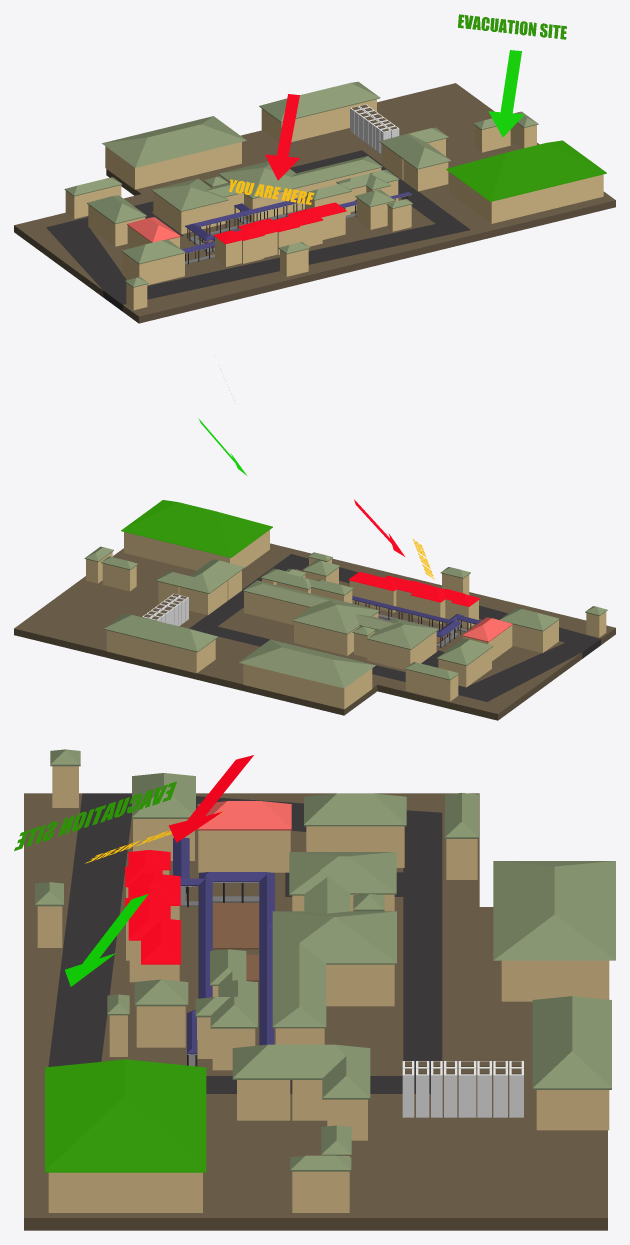
The model's file is BASDBUILDING.glb.
3 views of the same model, one above another, from view 1: azimuth 30°, elevation 25°; view 2: azimuth 150°, elevation 25°; view 3: azimuth 270°, elevation 25° (orthographic). The views are drawn at different scales.
Parts seen in each view (by area): view 1: Toposolid Grassland - 1200mm [352516], Toposolid Grassland - 1200mm [354195], Basic Roof Generic - 125mm [387914], Basic Roof Generic - 125mm [384035], Toposolid Grassland - 1200mm [354195].001, Basic Roof Generic - 125mm [378573], Basic Wall Generic - 200mm [355787], Basic Wall Generic - 200mm [355672], Basic Roof Generic - 125mm [385592], Basic Roof Generic - 125mm [385698], Basic Roof Generic - 125mm [387351], Basic Wall Generic - 200mm [355773] (+29 smaller); view 2: Toposolid Grassland - 1200mm [352516], Toposolid Grassland - 1200mm [354195], Basic Roof Generic - 125mm [387914], Basic Roof Generic - 125mm [384035], Basic Roof Generic - 125mm [378573], Basic Wall Generic - 200mm [355757], Basic Roof Generic - 125mm [385592], Basic Wall Generic - 200mm [355771], Basic Wall Generic - 200mm [355789], Basic Roof Generic - 125mm [385698], Basic Roof Generic - 125mm [387351], Basic Wall Generic - 200mm [357221] (+18 smaller); view 3: Toposolid Grassland - 1200mm [352516], Toposolid Grassland - 1200mm [354195], Basic Roof Generic - 125mm [387914], Basic Roof Generic - 125mm [384035], Basic Roof Generic - 125mm [378573], Toposolid Grassland - 1200mm [354195].001, Basic Roof Generic - 125mm [385592], Basic Wall Generic - 200mm [355788], Basic Roof Generic - 125mm [389243], Basic Roof Generic - 125mm [387351], Basic Roof Generic - 125mm [385698], Basic Wall Generic - 200mm [355719] (+31 smaller).
Boxes of the visible parts, x1=… form: Toposolid Grassland - 1200mm [352516]: x1=14, y1=83, x2=615, y2=323; Toposolid Grassland - 1200mm [354195]: x1=46, y1=150, x2=470, y2=311; Basic Roof Generic - 125mm [387914]: x1=446, y1=140, x2=606, y2=201; Basic Roof Generic - 125mm [384035]: x1=151, y1=156, x2=382, y2=211; Toposolid Grassland - 1200mm [354195].001: x1=125, y1=224, x2=466, y2=304; Basic Roof Generic - 125mm [378573]: x1=102, y1=116, x2=246, y2=167; Basic Wall Generic - 200mm [355787]: x1=492, y1=174, x2=603, y2=223; Basic Wall Generic - 200mm [355672]: x1=136, y1=142, x2=241, y2=189; Basic Roof Generic - 125mm [385592]: x1=259, y1=81, x2=380, y2=122; Basic Roof Generic - 125mm [385698]: x1=214, y1=202, x2=346, y2=244; Basic Roof Generic - 125mm [387351]: x1=379, y1=127, x2=451, y2=169; Basic Wall Generic - 200mm [355773]: x1=291, y1=99, x2=376, y2=141; Toposolid Grassland - 1200mm [352516]: x1=14, y1=543, x2=615, y2=720; Toposolid Grassland - 1200mm [354195]: x1=189, y1=554, x2=600, y2=701; Basic Roof Generic - 125mm [387914]: x1=121, y1=500, x2=272, y2=557; Basic Roof Generic - 125mm [384035]: x1=243, y1=580, x2=438, y2=649; Basic Roof Generic - 125mm [378573]: x1=239, y1=639, x2=375, y2=688; Basic Wall Generic - 200mm [355757]: x1=244, y1=664, x2=343, y2=708; Basic Roof Generic - 125mm [385592]: x1=104, y1=613, x2=217, y2=652; Basic Wall Generic - 200mm [355771]: x1=107, y1=630, x2=197, y2=673; Basic Wall Generic - 200mm [355789]: x1=125, y1=532, x2=230, y2=570; Basic Roof Generic - 125mm [385698]: x1=348, y1=572, x2=479, y2=606; Basic Roof Generic - 125mm [387351]: x1=156, y1=559, x2=244, y2=593; Basic Wall Generic - 200mm [357221]: x1=244, y1=591, x2=309, y2=624; Toposolid Grassland - 1200mm [352516]: x1=24, y1=793, x2=607, y2=1230; Toposolid Grassland - 1200mm [354195]: x1=48, y1=793, x2=442, y2=1093; Basic Roof Generic - 125mm [387914]: x1=45, y1=1059, x2=206, y2=1172; Basic Roof Generic - 125mm [384035]: x1=272, y1=852, x2=396, y2=1028; Basic Roof Generic - 125mm [378573]: x1=493, y1=861, x2=615, y2=960; Toposolid Grassland - 1200mm [354195].001: x1=48, y1=794, x2=131, y2=1066; Basic Roof Generic - 125mm [385592]: x1=532, y1=996, x2=611, y2=1089; Basic Wall Generic - 200mm [355788]: x1=51, y1=1172, x2=202, y2=1212; Basic Roof Generic - 125mm [389243]: x1=173, y1=837, x2=274, y2=1054; Basic Roof Generic - 125mm [387351]: x1=232, y1=1044, x2=370, y2=1099; Basic Roof Generic - 125mm [385698]: x1=125, y1=850, x2=180, y2=964; Basic Wall Generic - 200mm [355719]: x1=504, y1=960, x2=609, y2=1001.
Size of the model in its own units: 86 by 33.38 by 51.53.
